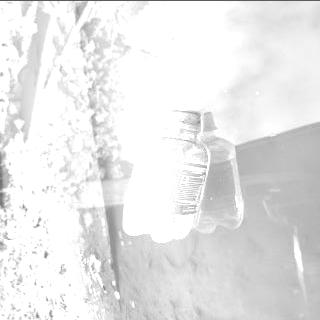bottle: (120, 106, 210, 243)
